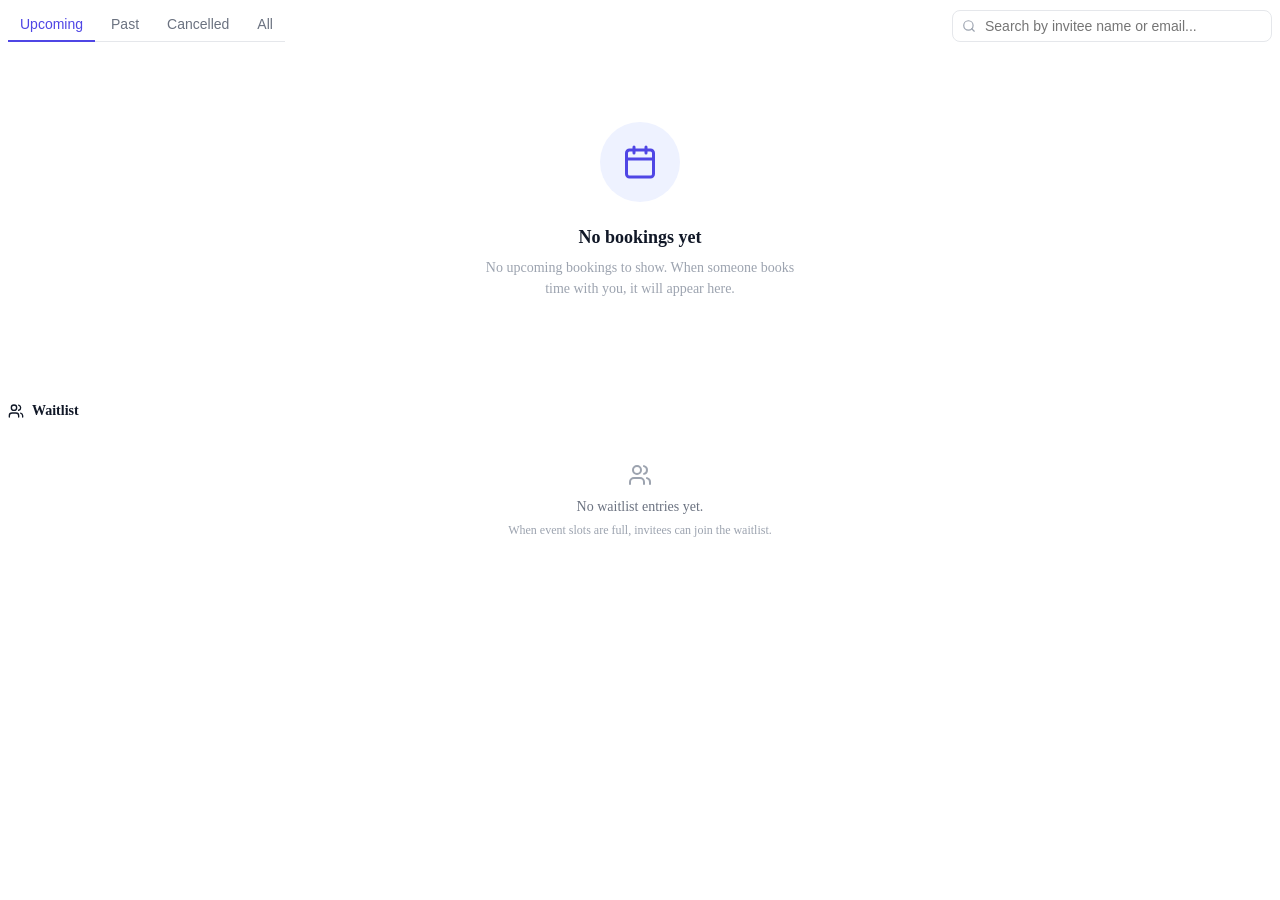
Test: BookingsPage › shows empty state when search has no results
Click the button "All": click(265, 25) [245,8,285,42]
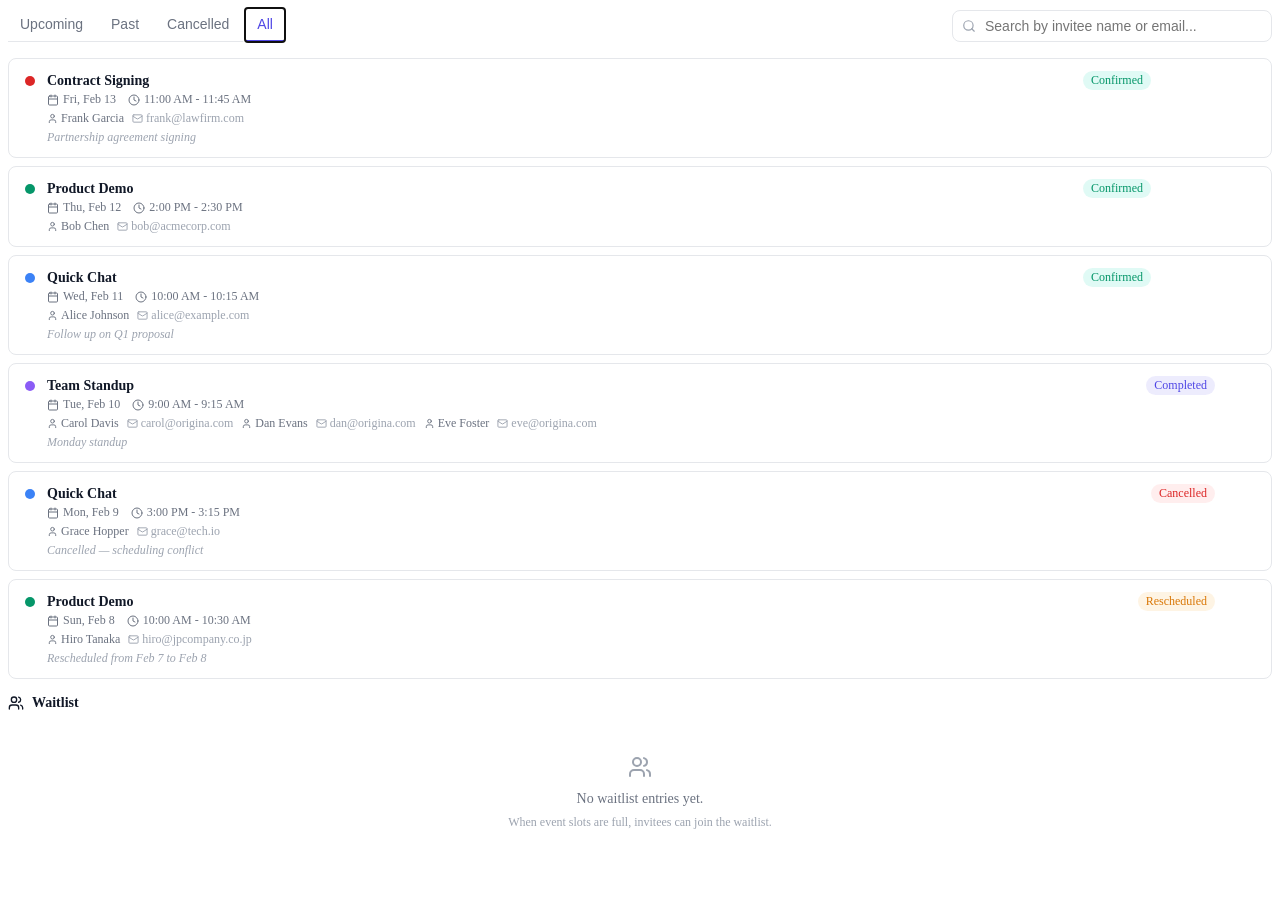
In the field named "Search bookings": (1112, 26) [952,10,1272,42], type "zzzznonexistent"
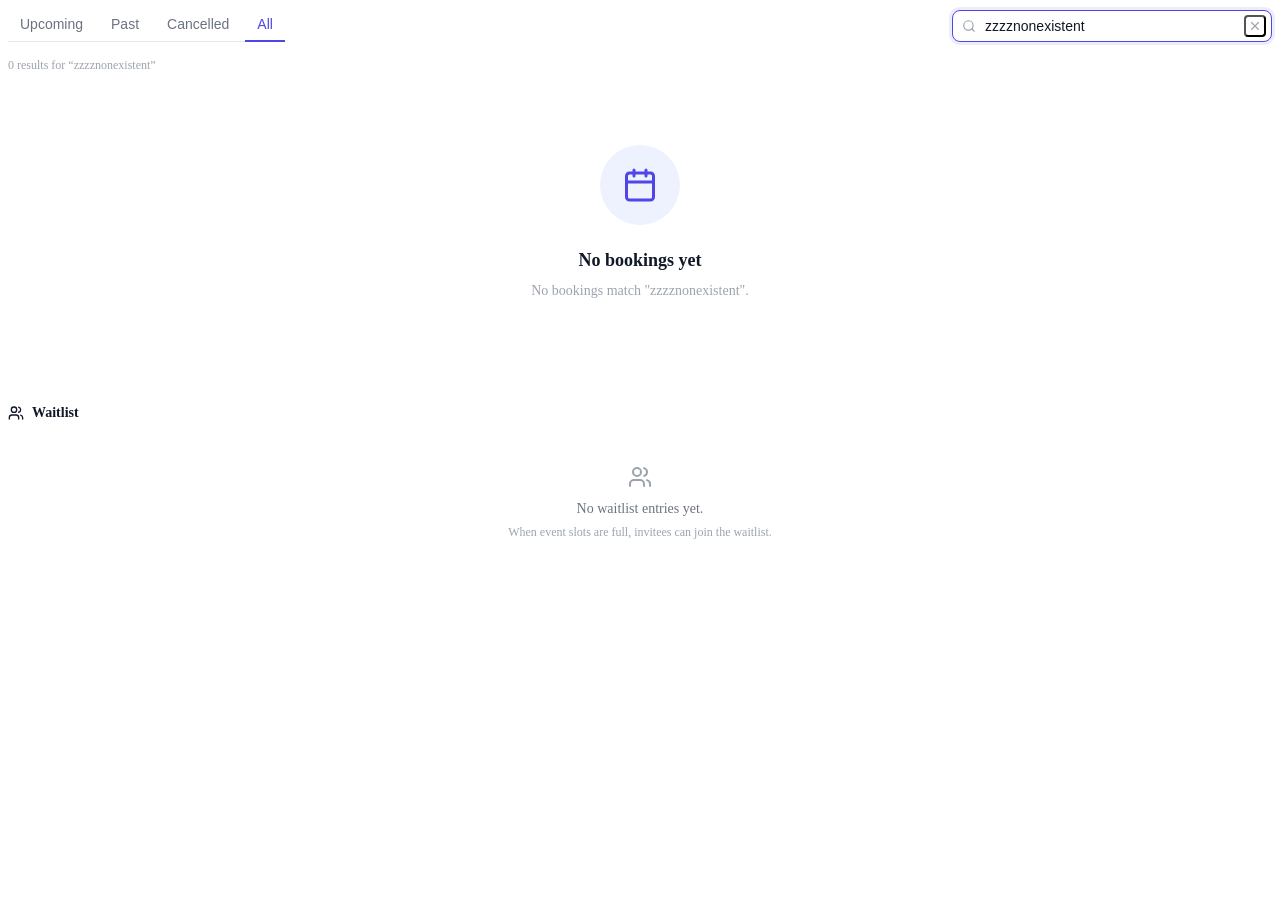
Check: the heading "No bookings yet" is shown, box [578,249,702,272]
